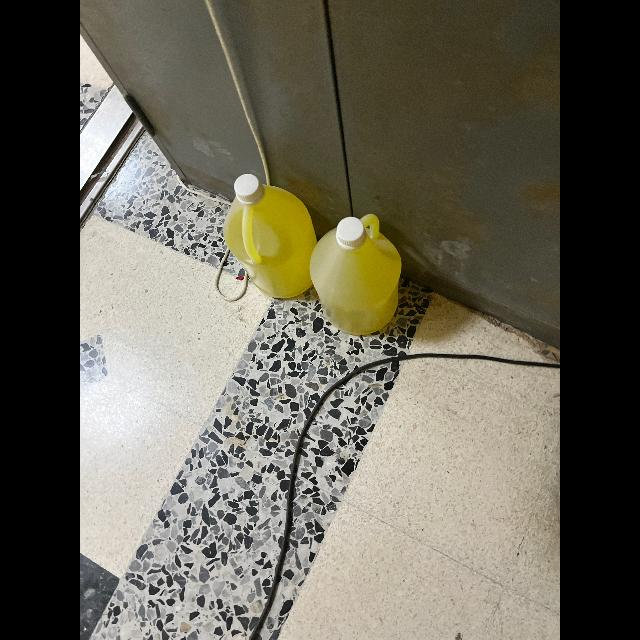chemical_plastic_gallon: (220, 170, 316, 308), (306, 208, 406, 338)
